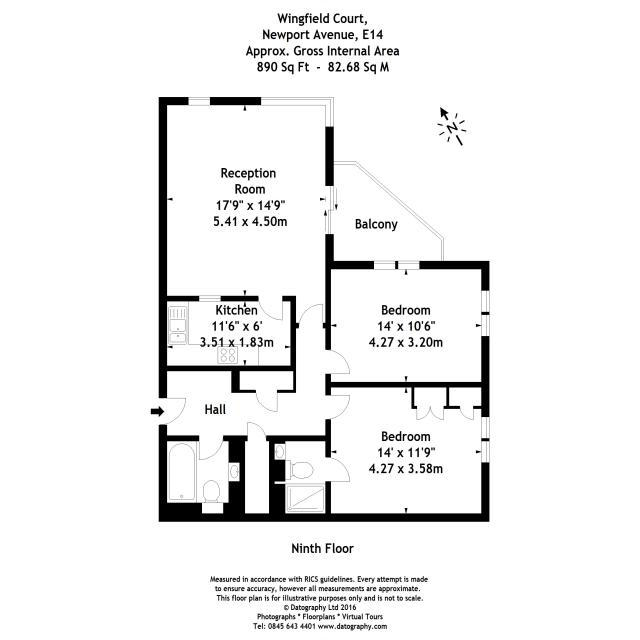DOOR: (158, 397, 187, 426), (325, 349, 351, 376), (325, 394, 351, 421), (257, 295, 283, 321), (298, 303, 324, 329), (325, 457, 351, 483), (198, 435, 224, 461), (255, 389, 278, 413), (246, 421, 267, 442), (459, 406, 474, 420)
DOUBLE DOOR: (416, 406, 444, 420)
ROOM: (158, 96, 334, 329), (325, 382, 490, 522), (325, 261, 490, 388), (159, 295, 296, 372), (188, 97, 211, 106)
SLIDING DOOR: (324, 184, 335, 236)
WINDOW: (260, 97, 335, 106), (324, 96, 334, 127), (397, 260, 420, 270), (480, 416, 490, 439), (373, 261, 396, 270), (481, 290, 490, 313), (481, 314, 490, 337), (481, 440, 490, 463), (198, 295, 221, 302)
